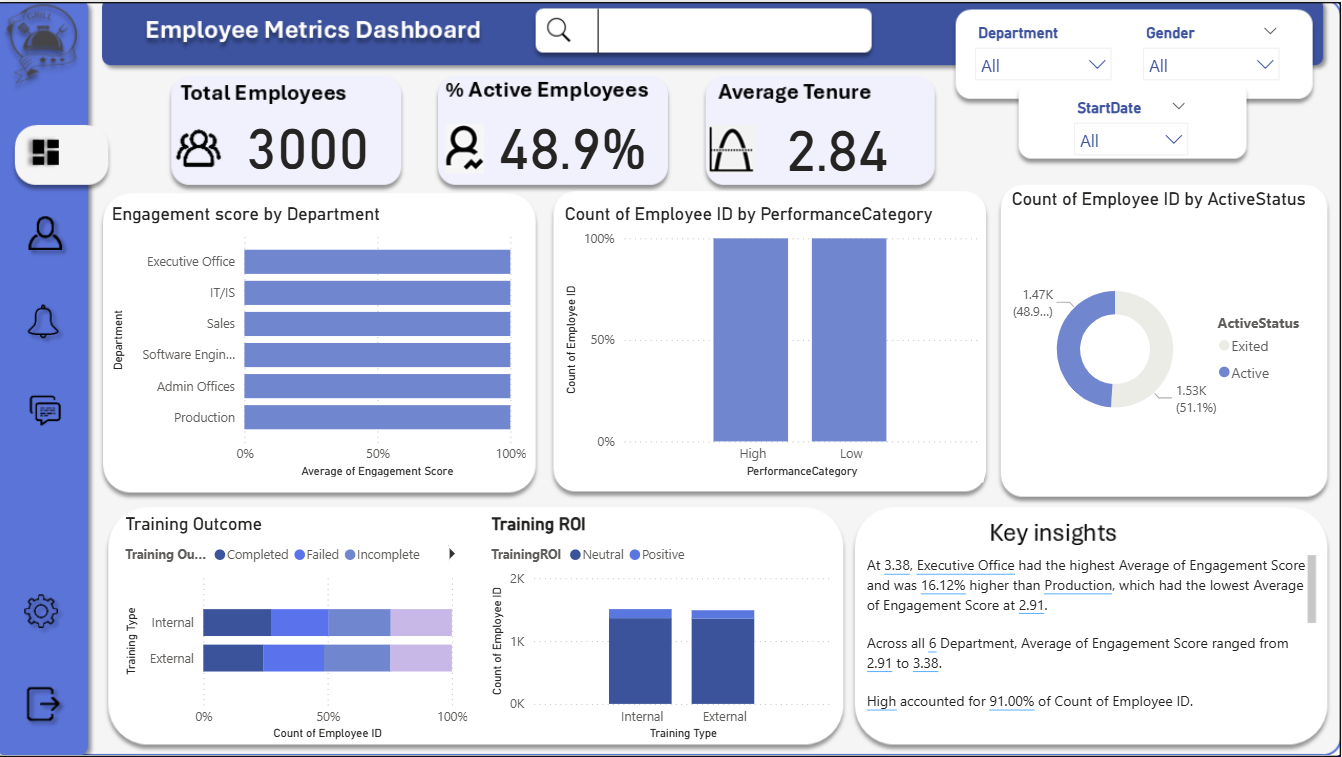

The dashboard page shown, as its layout file describes it:
{"tool":"powerbi","page":{"name":"Page 2","canvas":[1280,720],"ordinal":1},"visuals":[{"type":"card","fields":{"Values":["CountNonNull(HR Dataset.Employee ID)"]},"box":[222.9,101.4,145.7,62.9],"z":0},{"type":"card","fields":{"Values":["HR Dataset.% Active Employees"]},"box":[465.7,101.4,164.3,62.9],"z":1000},{"type":"card","fields":{"Values":["Avg(HR Dataset.Tenure YEar)"]},"box":[732.9,101.4,134.3,65.7],"z":2000},{"type":"hundredPercentStackedBarChart","title":"Training Outcome","fields":{"Y":["CountNonNull(HR Dataset.Employee ID)"],"Category":["HR Dataset.Training Type"],"Series":["HR Dataset.Training Outcome"]},"box":[117.1,487.1,335.7,220],"z":3000},{"type":"hundredPercentStackedBarChart","title":"Engagement score by Department","fields":{"Category":["HR Dataset.Department"],"Y":["Avg(HR Dataset.Engagement Score)"]},"box":[104.3,191.4,404.3,265.7],"z":4000},{"type":"columnChart","title":"Training ROI","fields":{"Category":["HR Dataset.Training Type"],"Y":["CountNonNull(HR Dataset.Employee ID)"],"Series":["HR Dataset.TrainingROI"]},"box":[465.7,487.1,334.3,220],"z":5000},{"type":"hundredPercentStackedColumnChart","fields":{"Category":["HR Dataset.PerformanceCategory"],"Y":["CountNonNull(HR Dataset.Employee ID)"]},"box":[535.7,191.4,404.3,265.7],"z":6000},{"type":"donutChart","fields":{"Category":["HR Dataset.ActiveStatus"],"Y":["CountNonNull(HR Dataset.Employee ID)"]},"box":[961.4,177.1,300,287.1],"z":7000},{"type":"slicer","fields":{"Values":["HR Dataset.Department"]},"box":[921.4,15.7,150,58.6],"z":8000},{"type":"slicer","fields":{"Values":["HR Dataset.GenderCode Clean"]},"box":[1081.4,15.7,150,58.6],"z":9000},{"type":"slicer","fields":{"Values":["HR Dataset.StartDate"]},"box":[1015.7,87.1,128.6,64.3],"z":10000},{"type":"textbox","box":[822.9,521.4,438.6,175.7],"z":11000}]}

Visuals, with their boxes on the page's 1280x720 design canvas (x1, y1, x2, y2). These are canvas units, not pixel positions in the 1342x757 screenshot, which may show the page scaled, cropped or inside an application window:
card - CountNonNull(HR Dataset.Employee ID): [left=223, top=101, right=369, bottom=164]
card - HR Dataset.% Active Employees: [left=466, top=101, right=630, bottom=164]
card - Avg(HR Dataset.Tenure YEar): [left=733, top=101, right=867, bottom=167]
"Training Outcome" hundredPercentStackedBarChart: [left=117, top=487, right=453, bottom=707]
"Engagement score by Department" hundredPercentStackedBarChart: [left=104, top=191, right=509, bottom=457]
"Training ROI" columnChart: [left=466, top=487, right=800, bottom=707]
hundredPercentStackedColumnChart - HR Dataset.PerformanceCategory x CountNonNull(HR Dataset.Employee ID): [left=536, top=191, right=940, bottom=457]
donutChart - HR Dataset.ActiveStatus x CountNonNull(HR Dataset.Employee ID): [left=961, top=177, right=1261, bottom=464]
slicer - HR Dataset.Department: [left=921, top=16, right=1071, bottom=74]
slicer - HR Dataset.GenderCode Clean: [left=1081, top=16, right=1231, bottom=74]
slicer - HR Dataset.StartDate: [left=1016, top=87, right=1144, bottom=151]
textbox: [left=823, top=521, right=1262, bottom=697]
